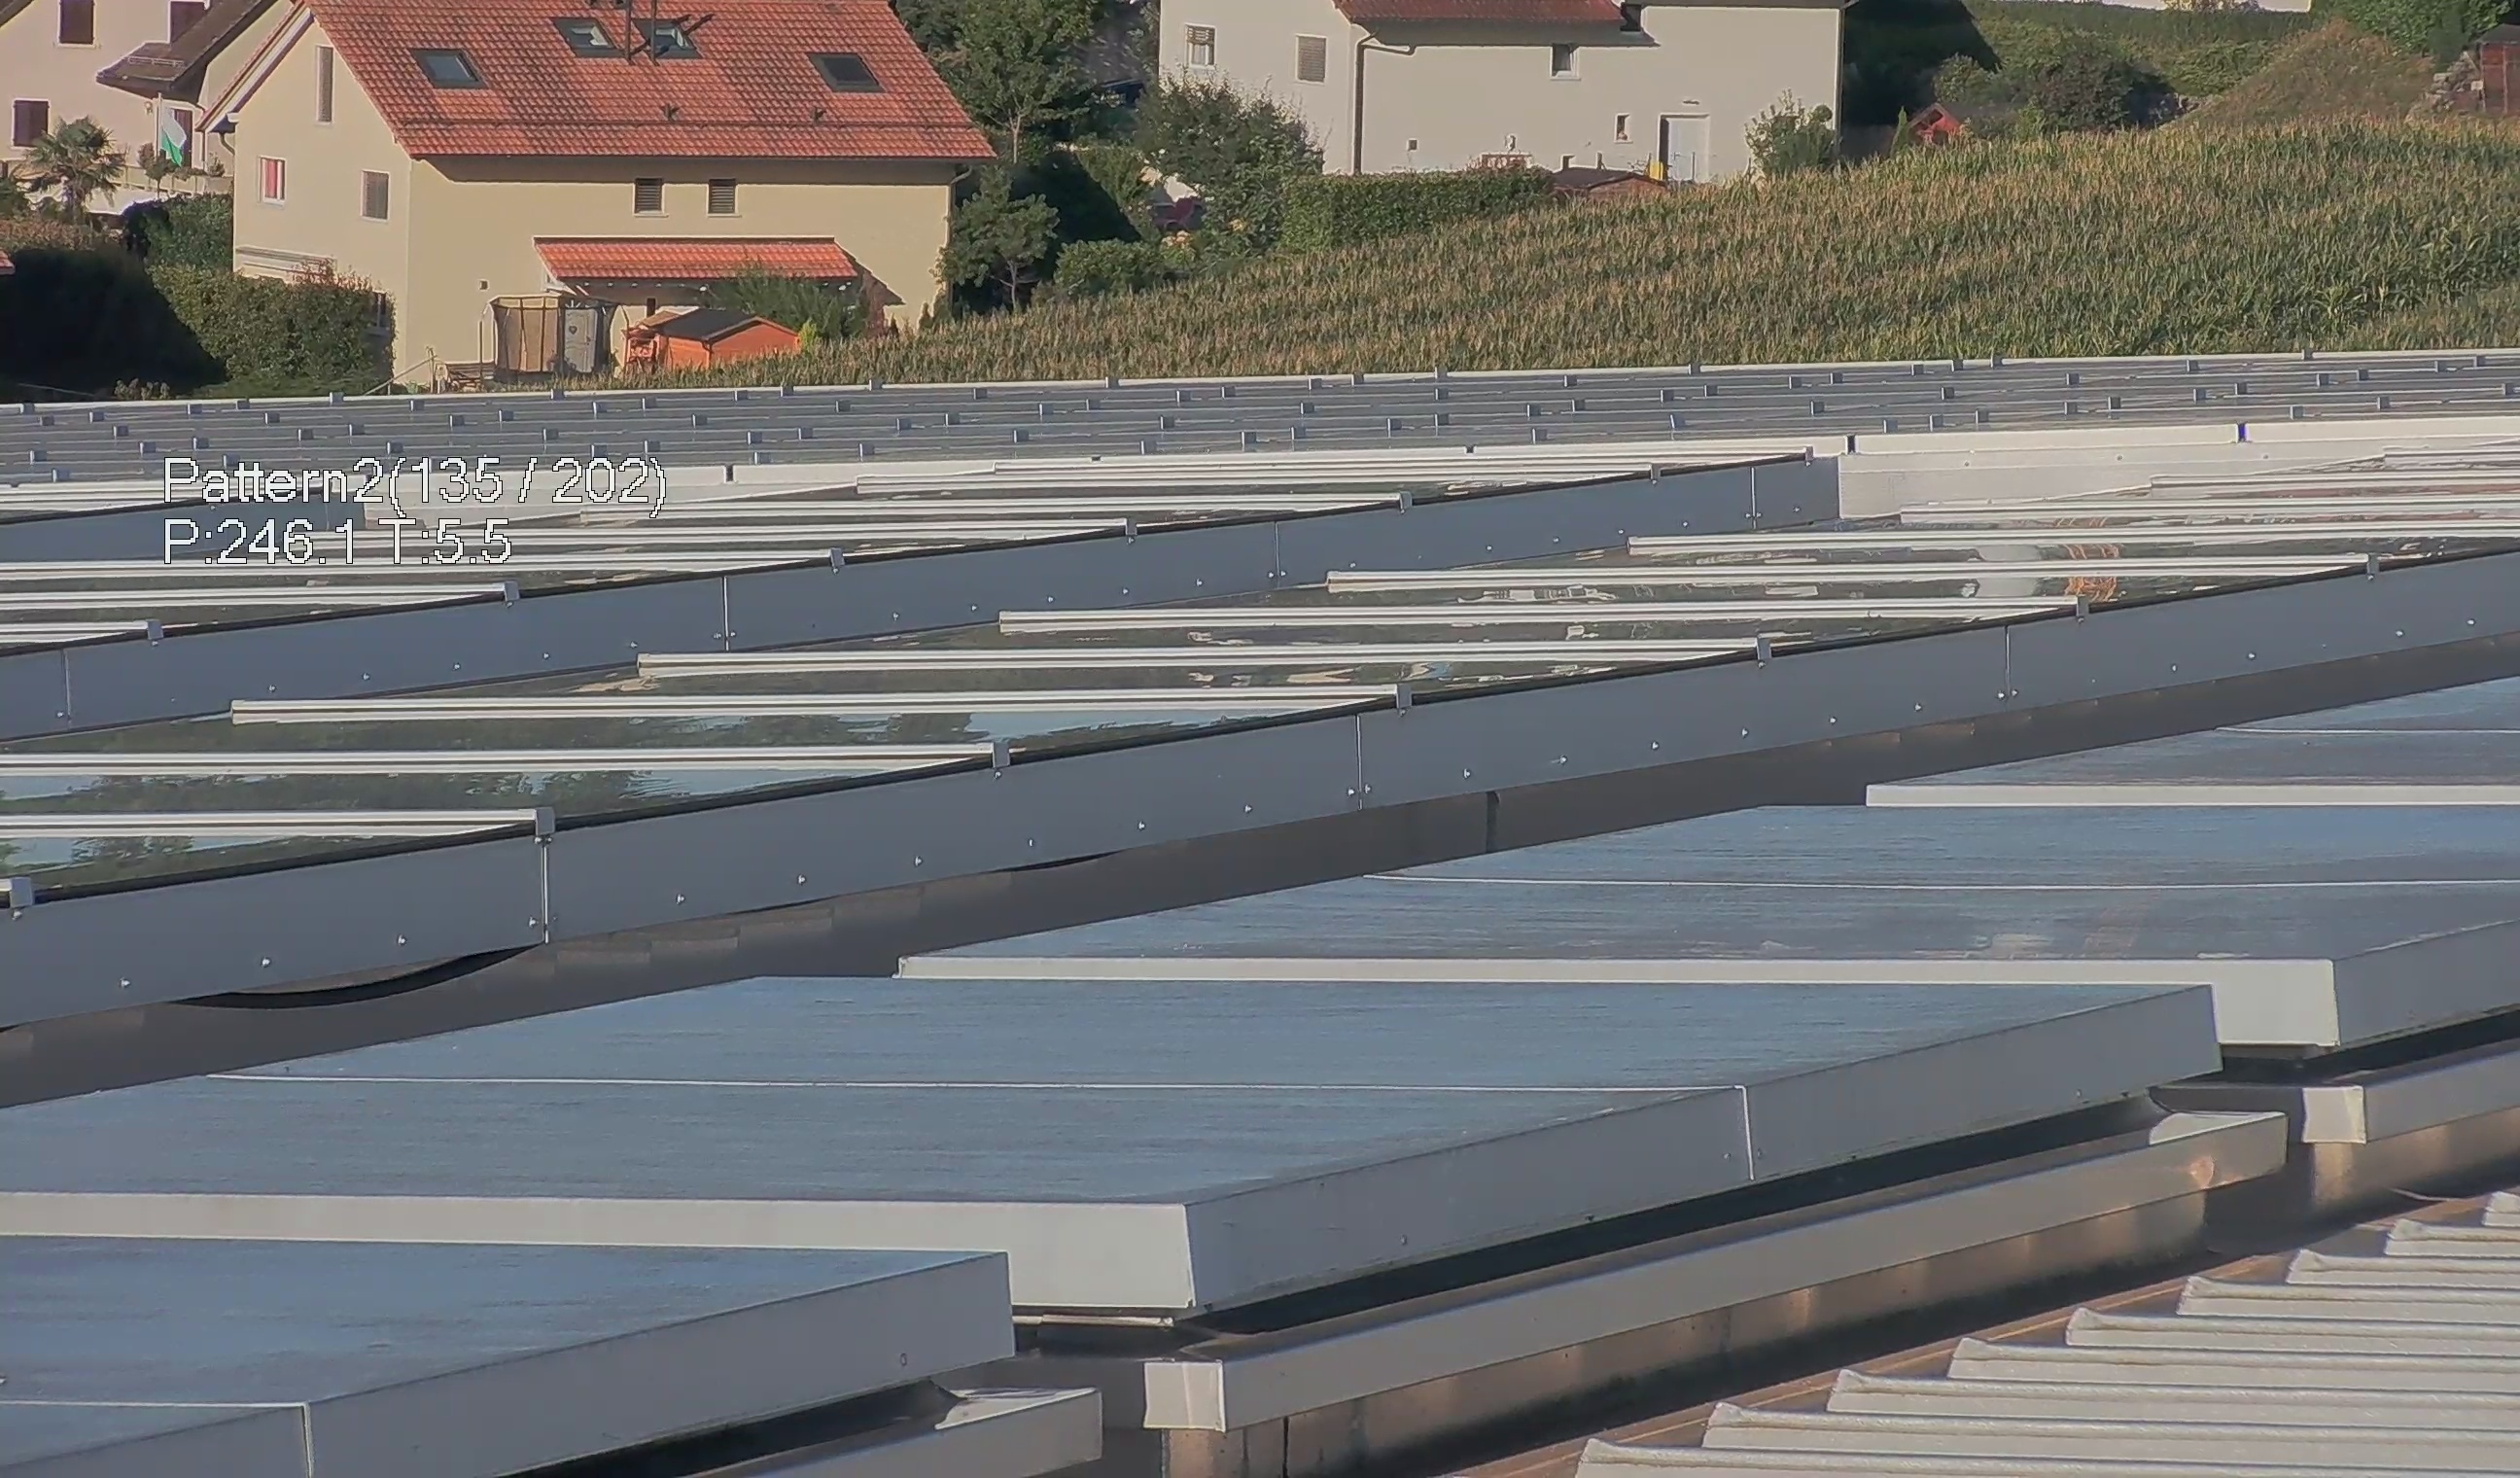Other: (1834, 0, 2026, 155)
